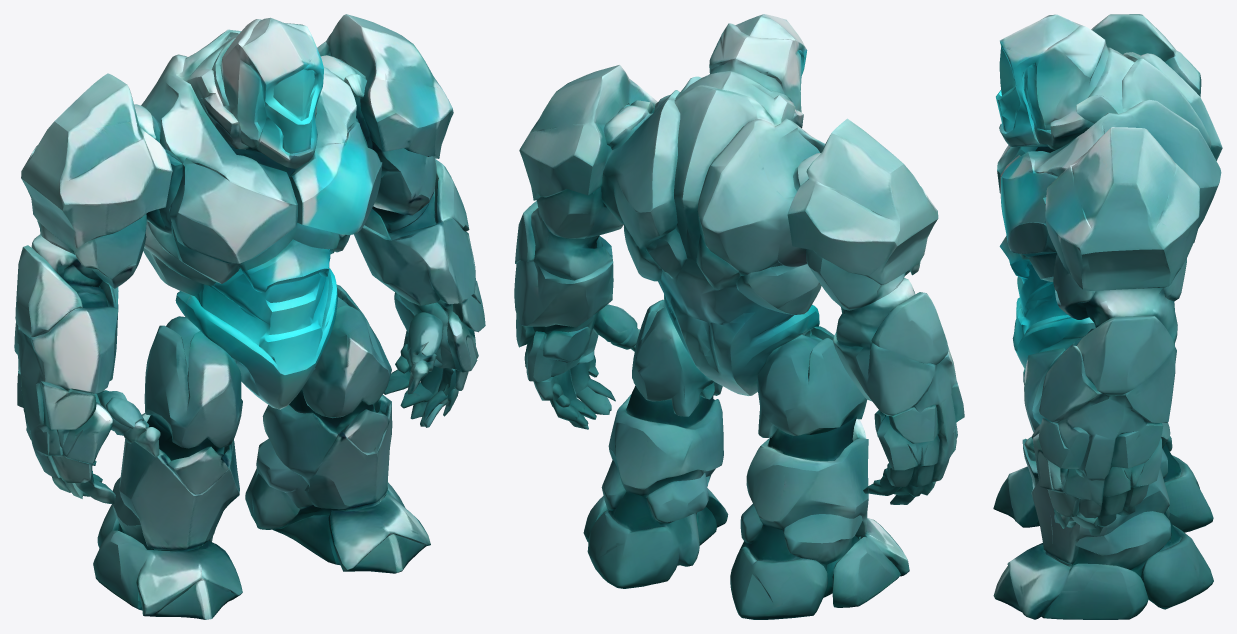
Rendered from m2FrostGolemBoss.glb.
3 renders of one model, left to right at view 1: azimuth 30°, elevation 25°; view 2: azimuth 150°, elevation 25°; view 3: azimuth 270°, elevation 25°, orthographic. The views are drawn at different scales.
Visible parts, largest first — view 1: model; view 2: model; view 3: model.
Part boxes in pixels (box(x1,y1,x2,y2)): model: box(14, 14, 485, 619); model: box(514, 14, 964, 619); model: box(993, 14, 1222, 619).
Size of the model in its own units: 1.57 by 1.9 by 0.7314.
Materials: 1 (1 with a texture image).
